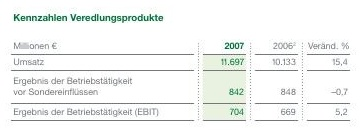table: (0, 0, 363, 130)
